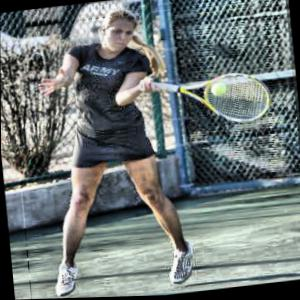Tennis_Ball: (211, 83, 226, 97)
